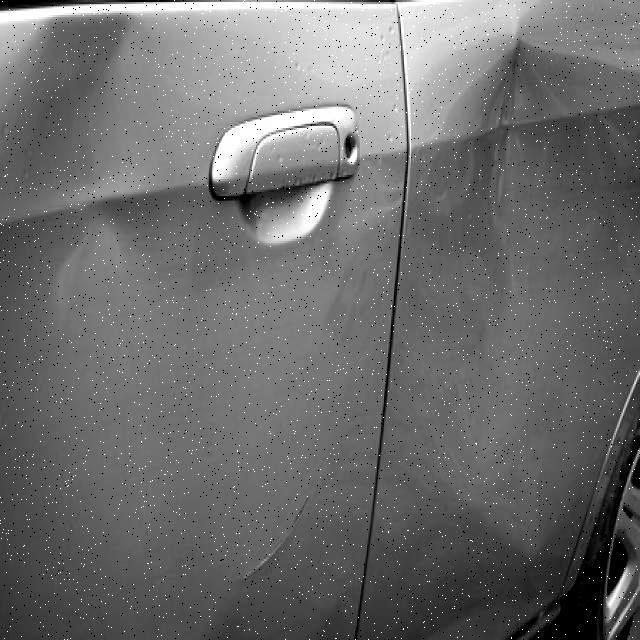doorouter-dent: (1, 7, 400, 638), (401, 7, 640, 638)
